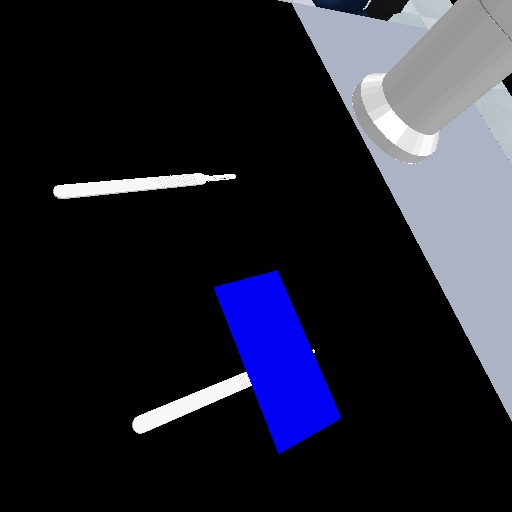bisturi: (130, 370, 254, 436), (49, 171, 241, 201)
